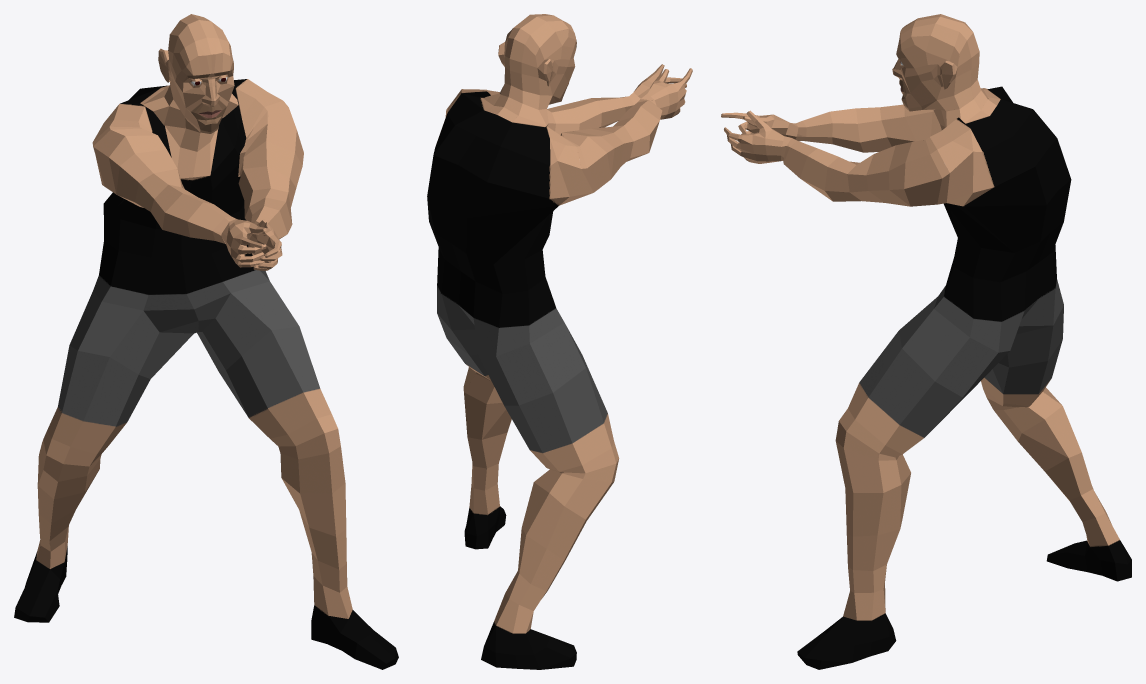
File: PlayerShoot(30).obj
3 renders of one model, left to right at view 1: azimuth 30°, elevation 25°; view 2: azimuth 150°, elevation 25°; view 3: azimuth 270°, elevation 25°, orthographic. The views are drawn at different scales.
Parts seen in each view (by area): view 1: Plane002; view 2: Plane002; view 3: Plane002.
Part boxes in pixels (box(x1,y1,x2,y2)): Plane002: box(14, 14, 398, 669); Plane002: box(427, 14, 692, 669); Plane002: box(721, 14, 1131, 669).
Bounding box in the file's own units: 714 × 1665 × 1050.
